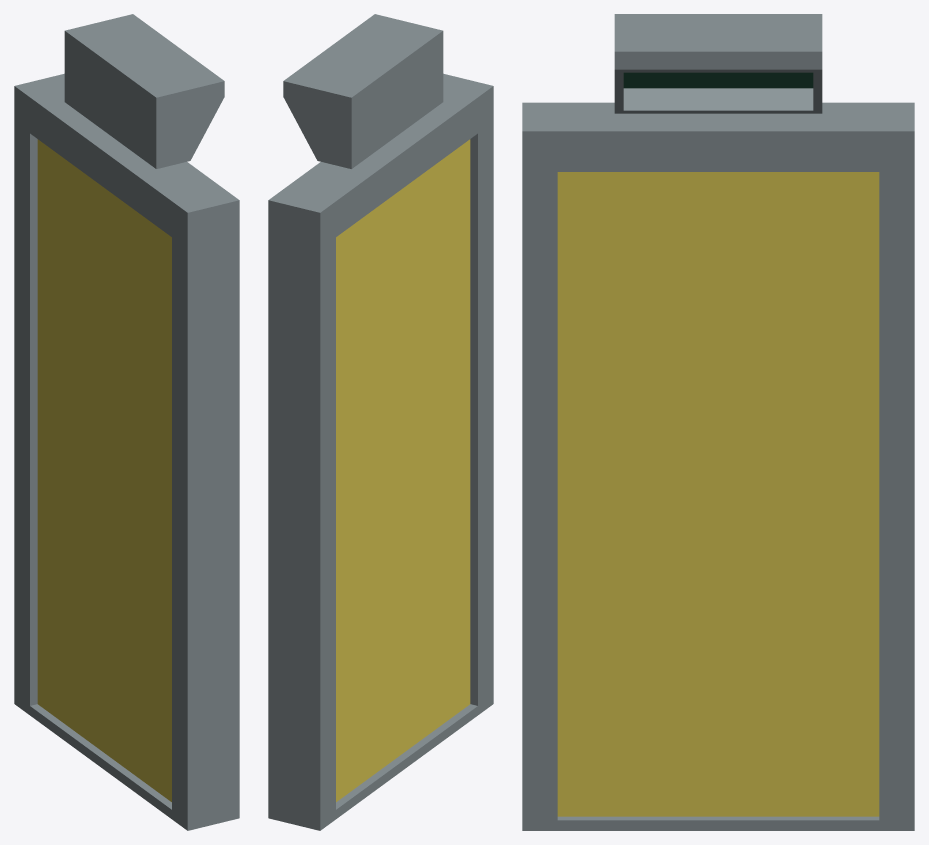
File: door.fbx
3 views of the same model, side by side, from view 1: azimuth 30°, elevation 25°; view 2: azimuth 150°, elevation 25°; view 3: azimuth 270°, elevation 25° (orthographic). The views are drawn at different scales.
Visible parts, largest first — view 1: door_frame, door_slider_2, door_slider_1, exit sign; view 2: door_frame, door_slider_1, door_slider_2, exit sign; view 3: door_slider_2, door_slider_1, door_frame, exit sign.
Part boxes in pixels (x1,y1,x2,y2): door_frame: (14, 73, 239, 830); door_slider_2: (37, 139, 109, 756); door_slider_1: (108, 191, 171, 801); exit sign: (64, 14, 224, 168); door_frame: (268, 73, 493, 830); door_slider_1: (398, 139, 470, 756); door_slider_2: (336, 191, 400, 801); exit sign: (283, 14, 443, 168); door_slider_2: (716, 172, 879, 816); door_slider_1: (557, 172, 719, 816); door_frame: (522, 102, 914, 830); exit sign: (614, 14, 822, 113).
Size of the model in its own units: 34.17 by 294 by 132.
